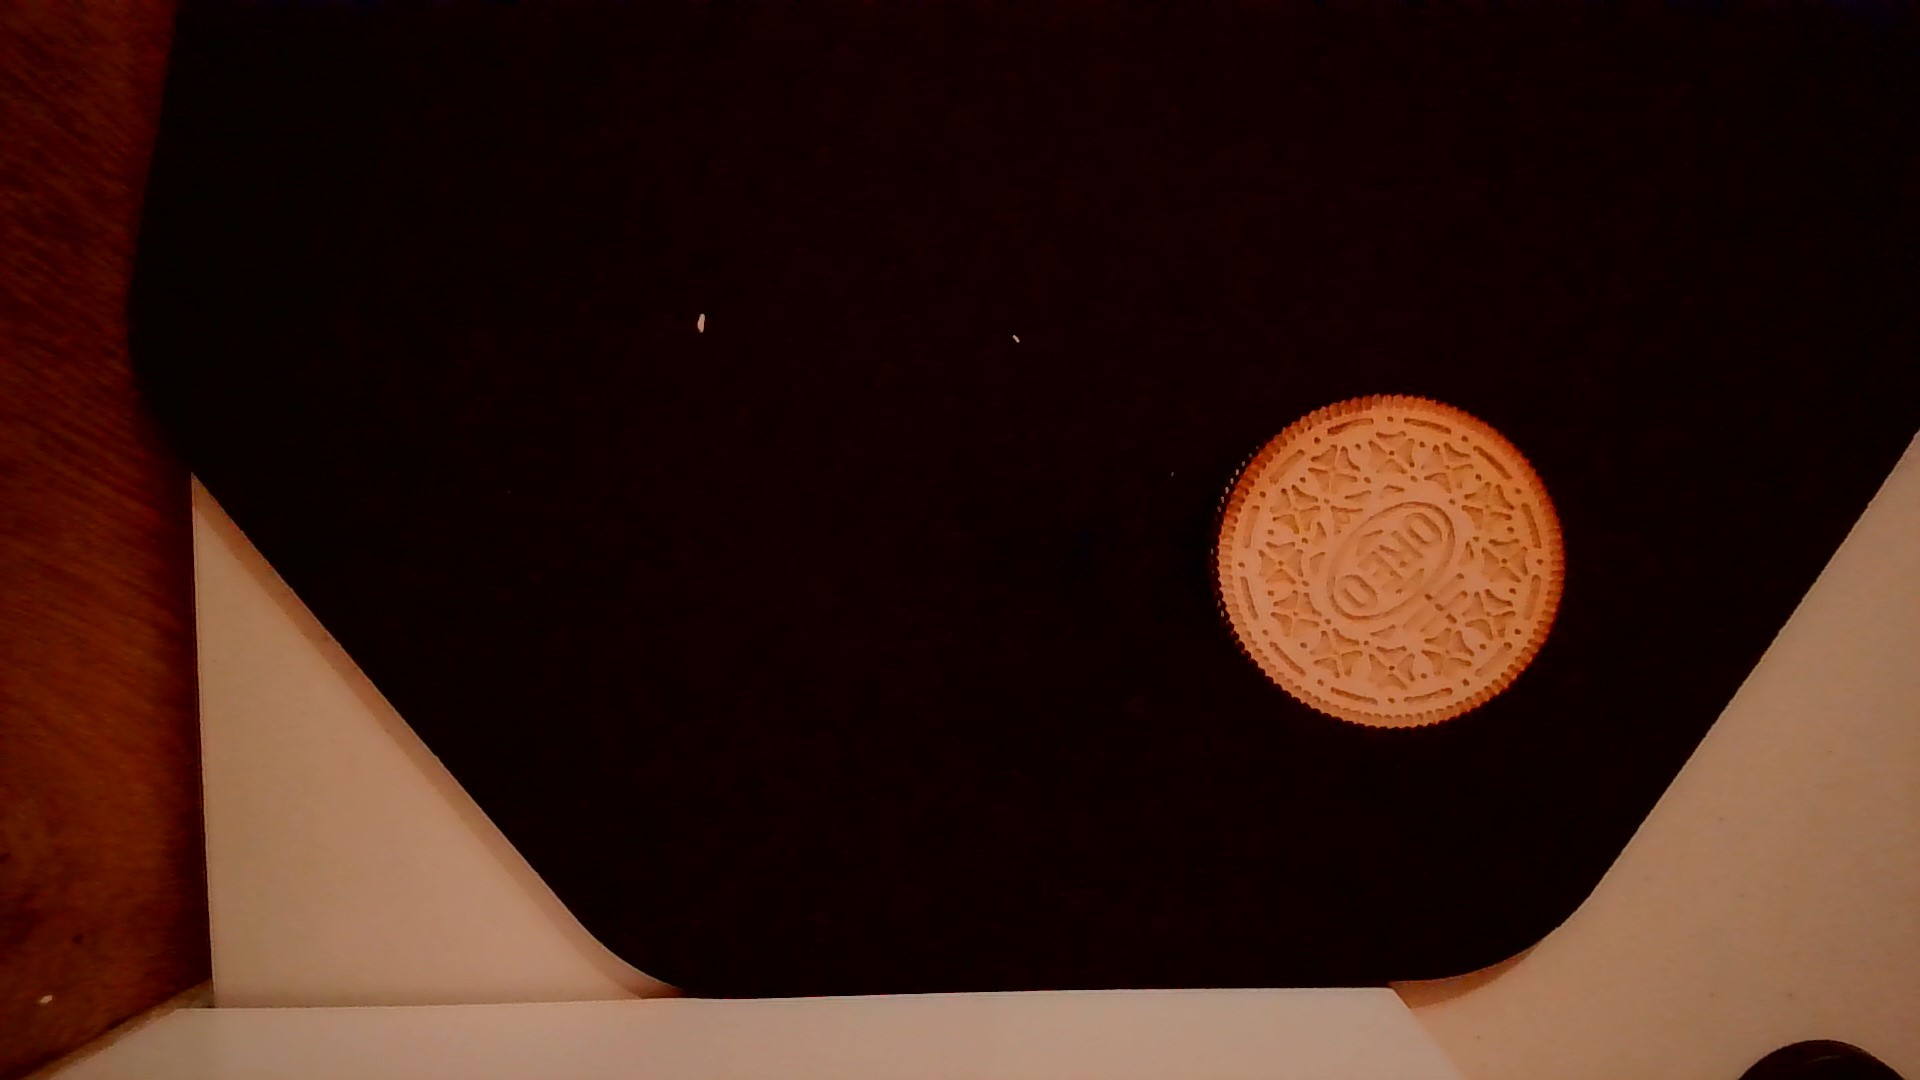Oréo: (1203, 386, 1576, 737)
